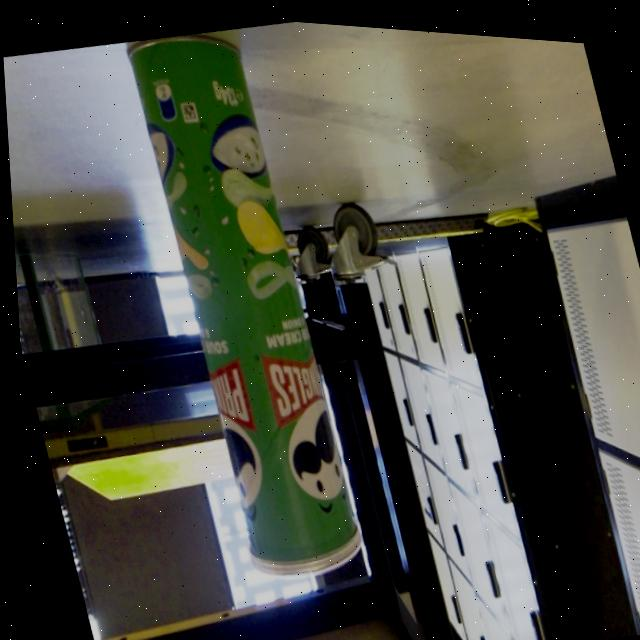greenpringles: (64, 9, 393, 600)
